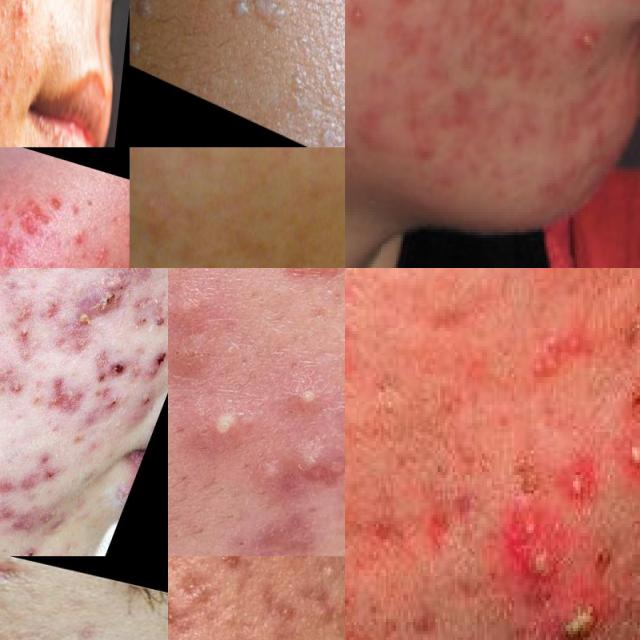acne_scars: (0, 425, 79, 510), (24, 365, 104, 443), (0, 480, 76, 556), (250, 592, 305, 632), (0, 556, 42, 599), (16, 215, 49, 240)
comedone: (211, 517, 257, 556), (48, 623, 107, 640), (87, 240, 114, 268), (107, 258, 123, 268), (0, 206, 6, 226)
crystanlline: (514, 490, 553, 622)
keloid: (152, 188, 345, 268)
milium: (2, 128, 12, 147)
papule: (536, 268, 605, 333), (14, 0, 30, 24)
pustule: (263, 370, 337, 442), (193, 391, 250, 457), (555, 582, 607, 640), (566, 447, 598, 518), (49, 195, 69, 215)
sebo-crystan-conglo: (54, 268, 159, 354), (275, 436, 345, 504), (198, 556, 259, 579)
syringoma: (193, 0, 345, 55), (129, 0, 163, 71)
